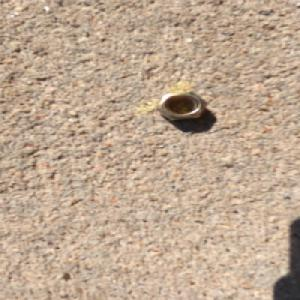Nut: (153, 90, 209, 121)
